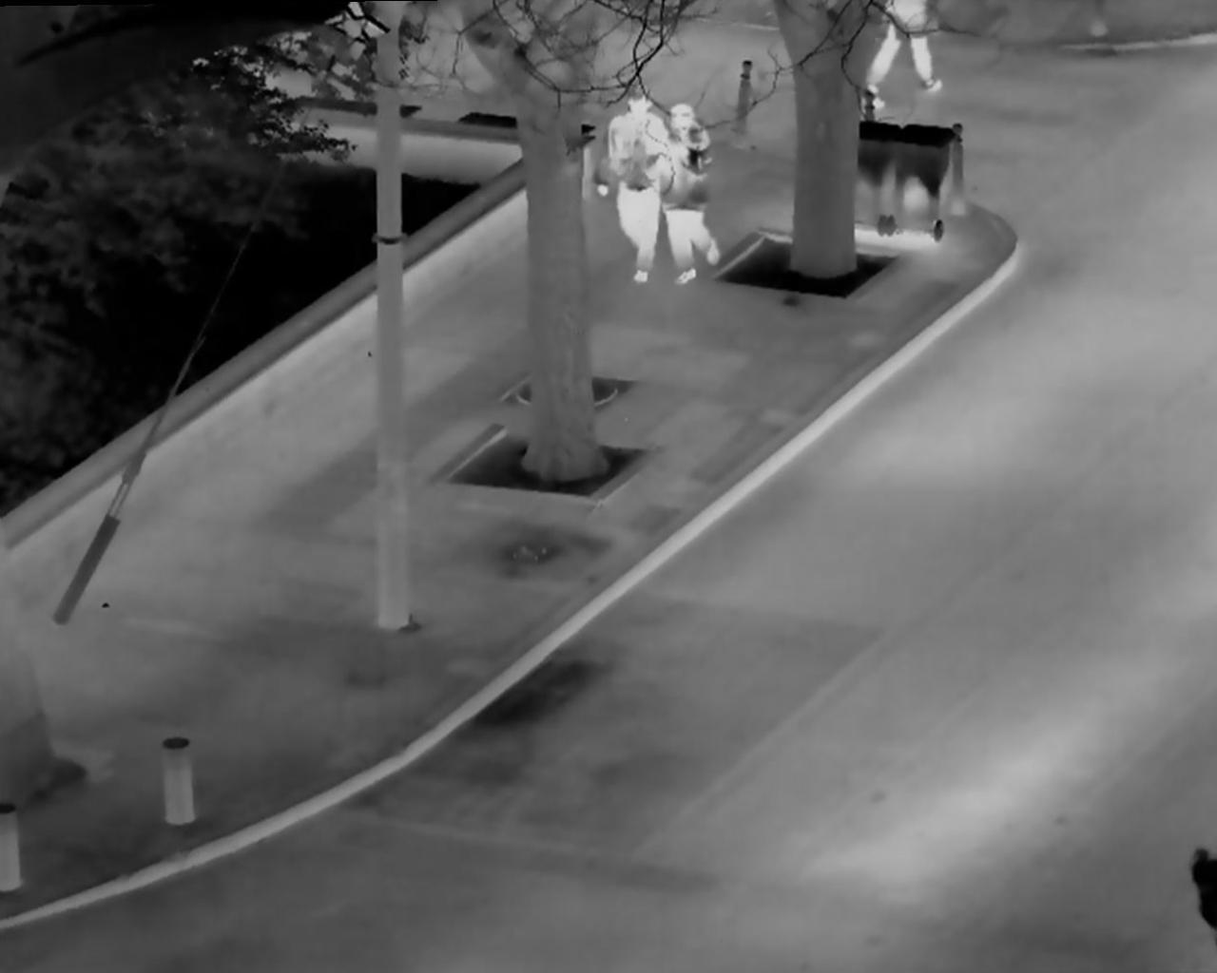person: (656, 97, 728, 296), (605, 84, 660, 296)
